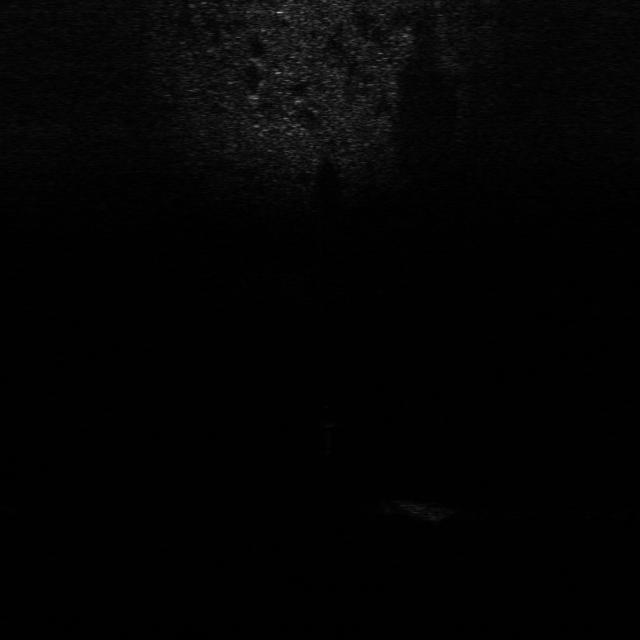ball: (308, 402, 347, 428)
metal bucket: (373, 496, 463, 525)
